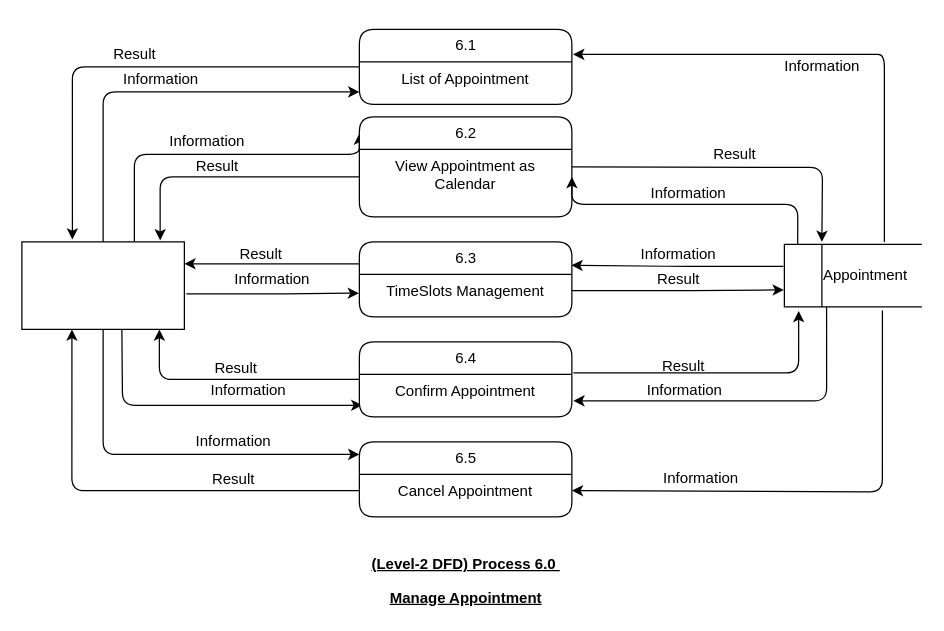
Some shapes in this 944 by 631 pixel diagram are drawn without their labels. Each missing label, with the box of its shape:
D1: (783, 243, 922, 307)
Doctor: (21, 241, 184, 329)
